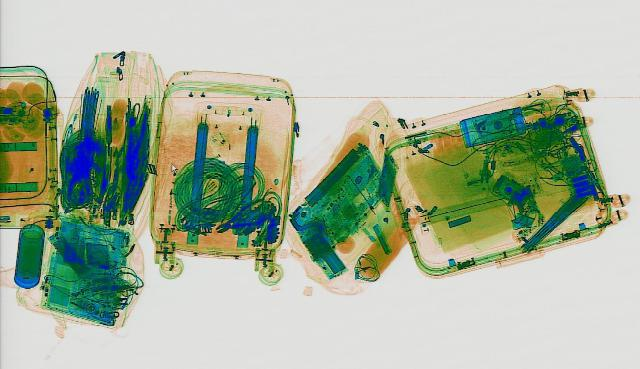Pliers: (202, 196, 284, 237)
